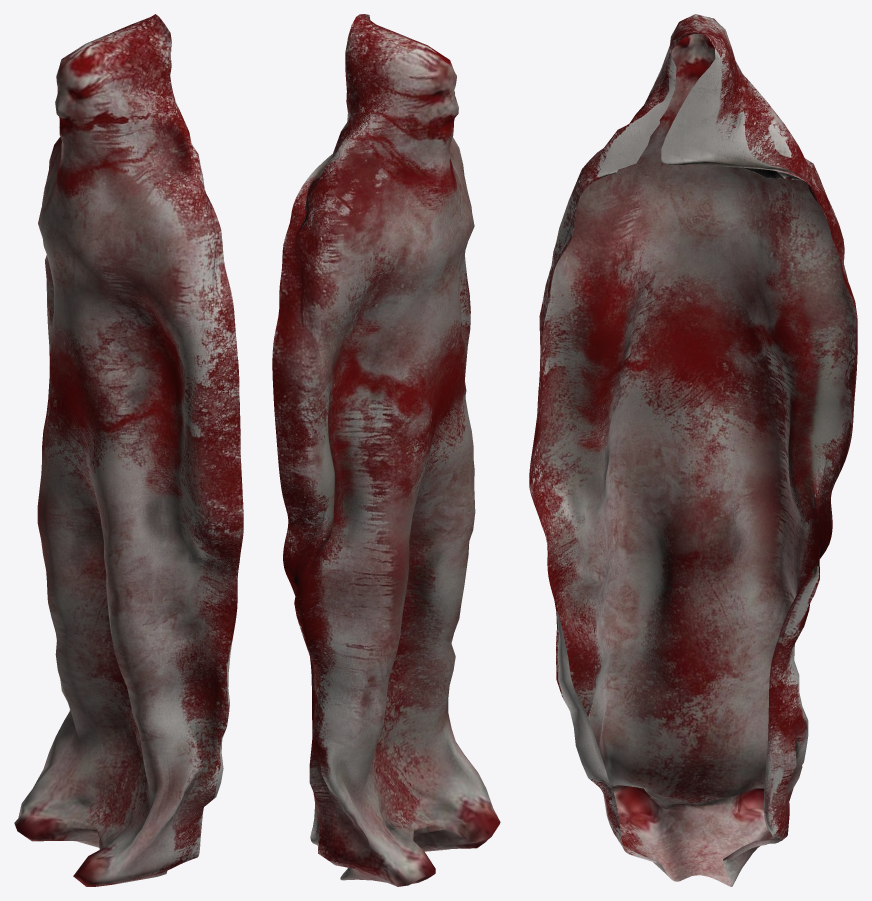
File: chel.fbx
The picture shows the model from 3 angles, left to right: view 1: azimuth 30°, elevation 25°; view 2: azimuth 150°, elevation 25°; view 3: azimuth 270°, elevation 25°; orthographic projection.
Visible parts, largest first — view 1: Corpse_mesh; view 2: Corpse_mesh; view 3: Corpse_mesh.
Part boxes in pixels (left/top/right/bottom): Corpse_mesh: left=14, top=14, right=243, bottom=886; Corpse_mesh: left=272, top=14, right=500, bottom=886; Corpse_mesh: left=529, top=14, right=857, bottom=886.
Size of the model in its own units: 29.99 by 203 by 70.71.
